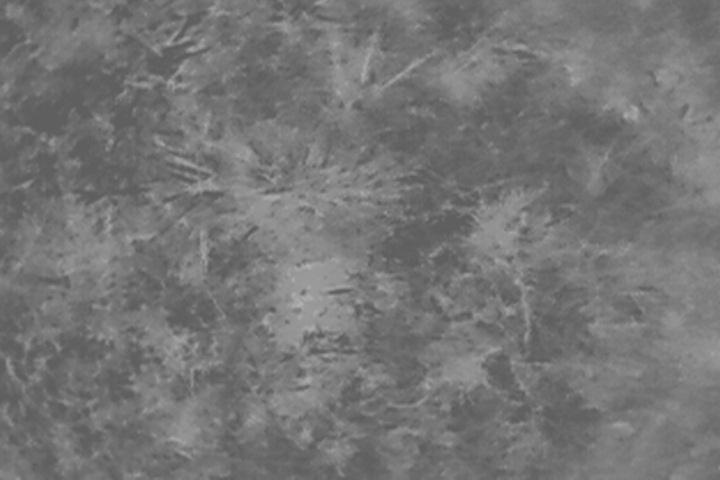landmine: (273, 261, 347, 333)
